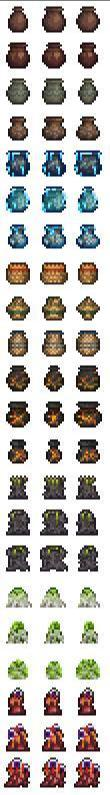pot: (4, 39, 32, 71), (39, 77, 69, 106), (73, 3, 101, 34), (5, 76, 31, 107), (40, 41, 68, 69), (40, 114, 68, 142), (74, 114, 101, 143), (76, 40, 101, 70), (41, 5, 67, 33), (6, 112, 32, 140), (6, 5, 30, 34), (76, 76, 98, 106)
